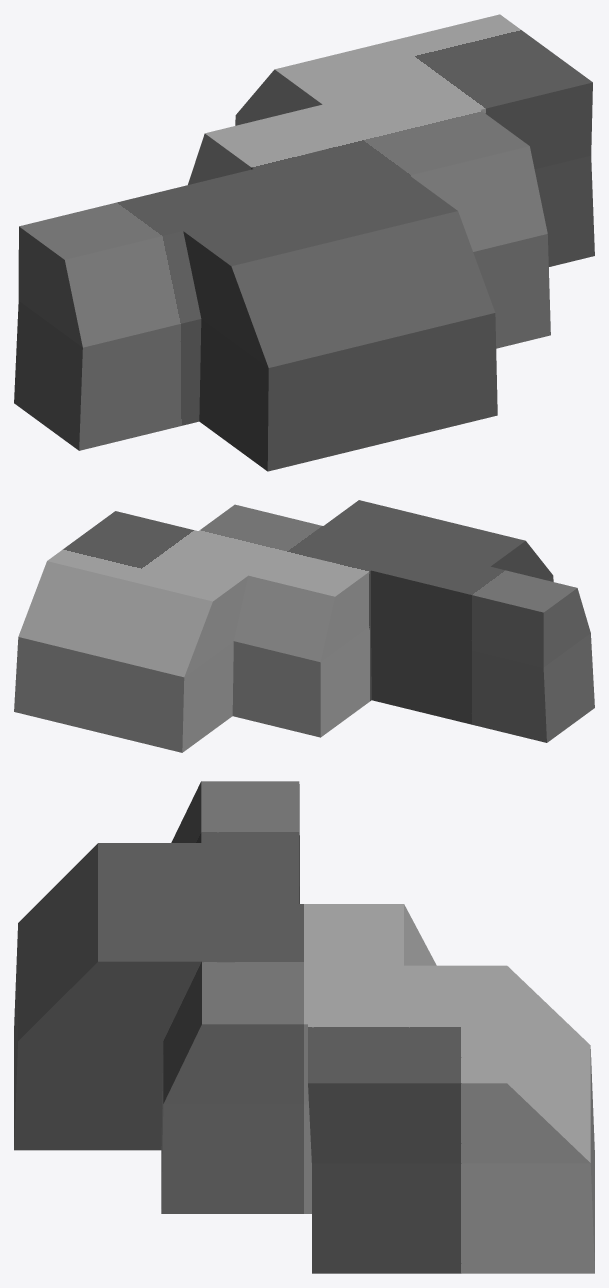
Rendered from stone_chips_815x03.gltf.
3 renders of one model, top to bottom at view 1: azimuth 30°, elevation 25°; view 2: azimuth 150°, elevation 25°; view 3: azimuth 270°, elevation 25°, orthographic. The views are drawn at different scales.
Visible parts, largest first — view 1: stone_chips_815x03; view 2: stone_chips_815x03; view 3: stone_chips_815x03.
Boxes of the visible parts, x1,y1,x2,y2 form: stone_chips_815x03: [14, 14, 594, 471]; stone_chips_815x03: [14, 500, 594, 752]; stone_chips_815x03: [14, 781, 594, 1273].
Size of the model in its own units: 0.5772 by 0.1654 by 0.4623.
Materials: 1 (1 with a texture image).
